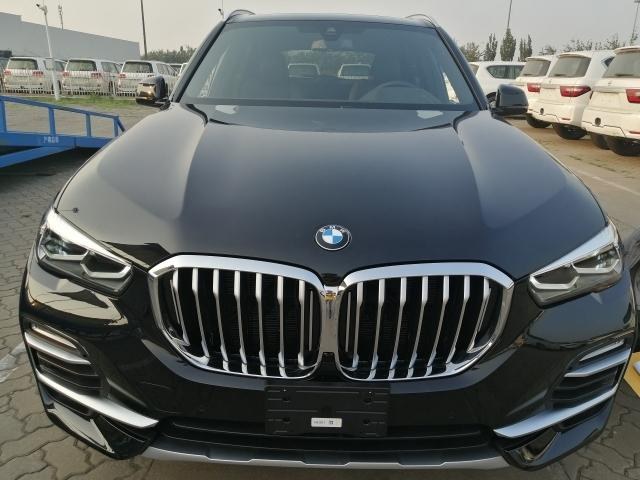汽车: (24, 1, 638, 474)
